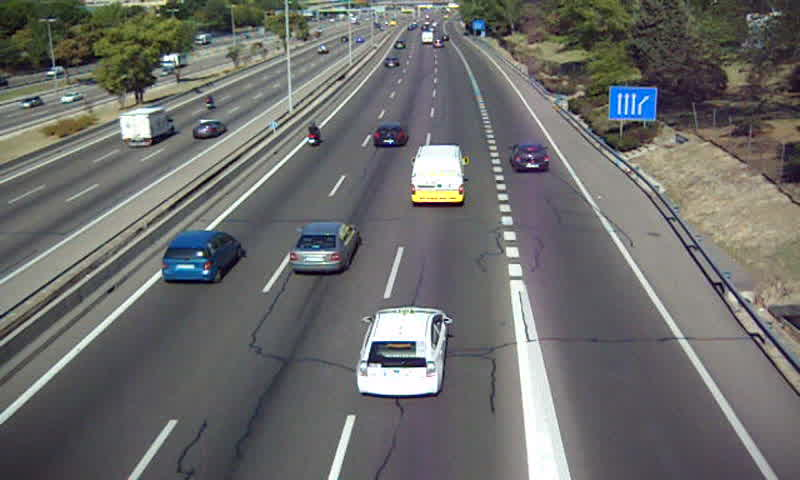car: (356, 308, 450, 397), (160, 230, 243, 282), (287, 222, 360, 274), (509, 141, 552, 172), (372, 122, 410, 148), (381, 57, 401, 70)
motorcycle: (305, 120, 320, 149)
van: (410, 145, 466, 204)
